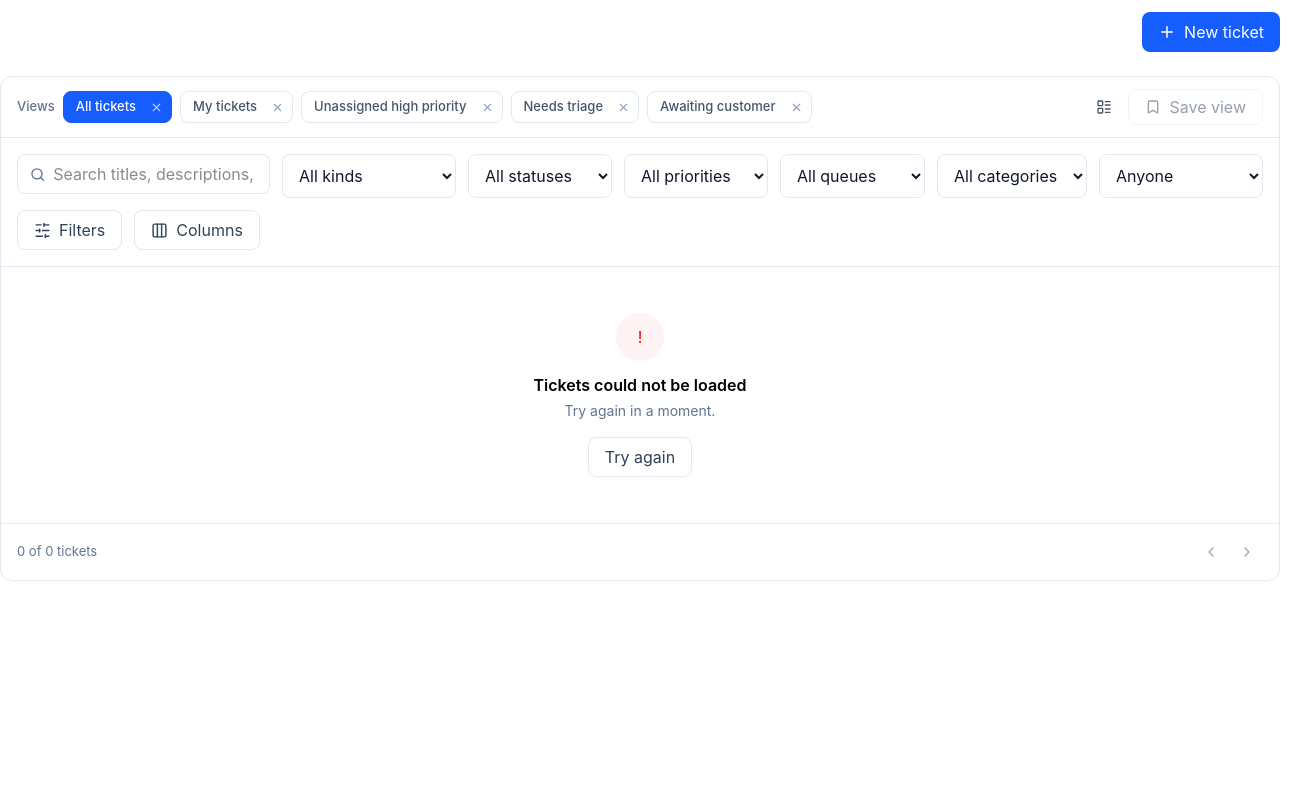
Test case: TicketListPage › offers a retry when loading fails
Expected: the message shows "Tickets could not be loaded", [534,375,747,395]
What coordinates should you click on to do the following:
click the button "Try again"
I would click on:
 (640, 457)
Its box is [588,437,692,477].
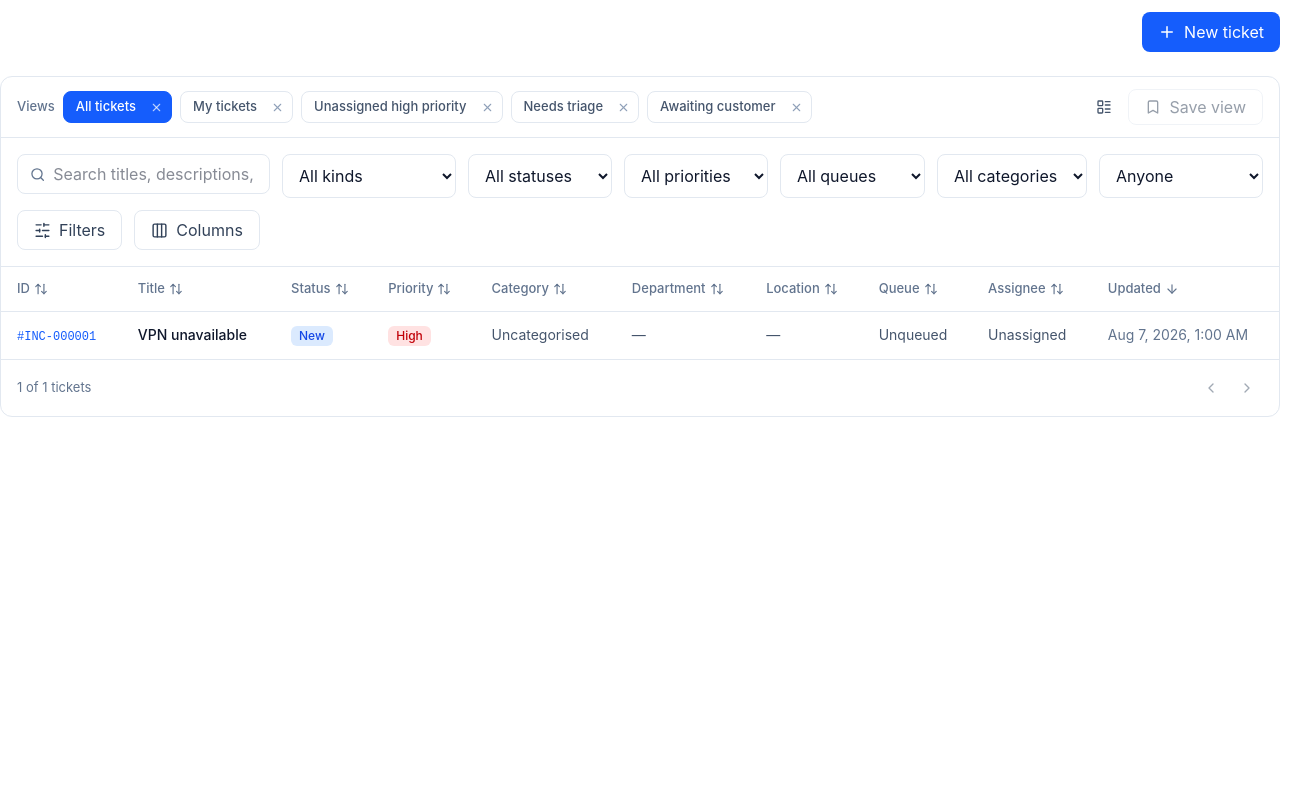
Expected: the link "VPN unavailable" is shown, [138,326,247,343]
